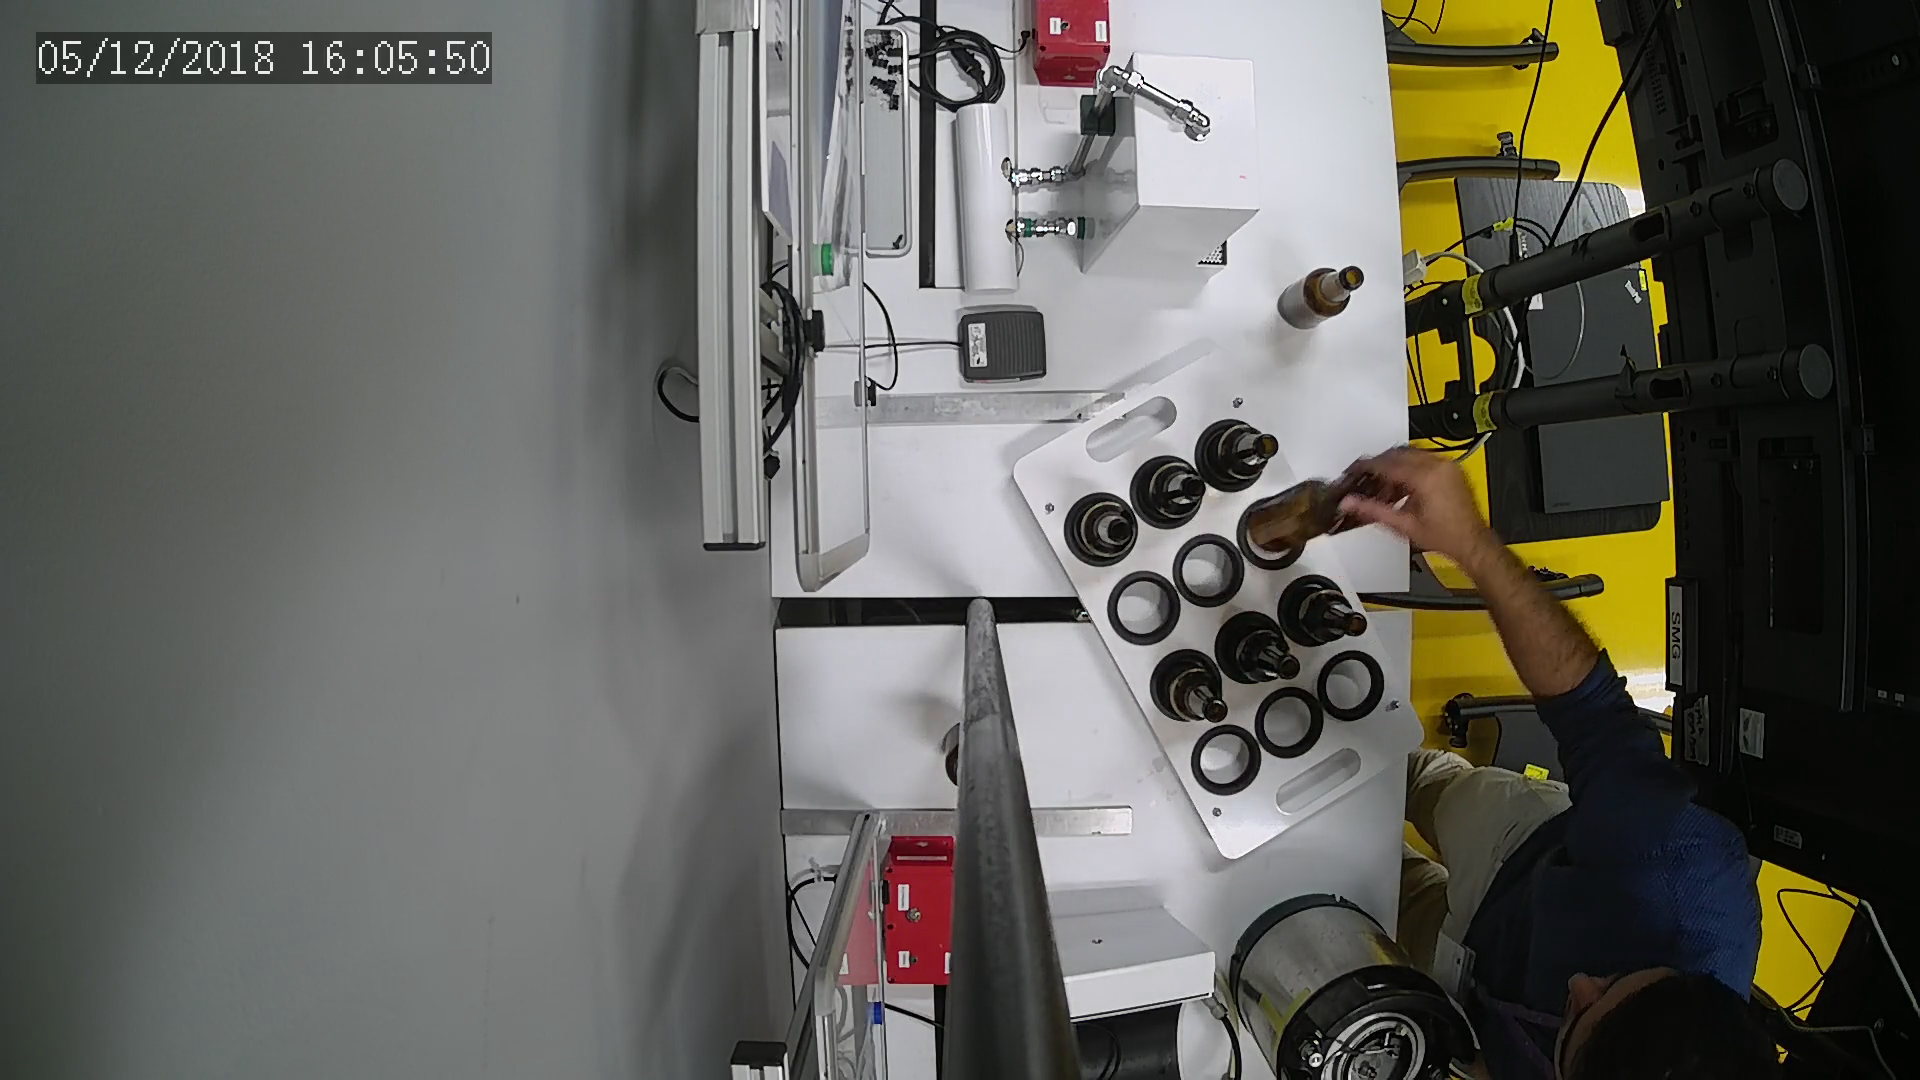filled_bottle: (1280, 576, 1374, 651), (1216, 611, 1303, 691), (1151, 649, 1229, 728), (1199, 419, 1283, 491), (1064, 491, 1139, 568), (1135, 458, 1207, 530)
trolley: (1007, 345, 1433, 866)
unfilled_bottle: (1276, 265, 1366, 330)
